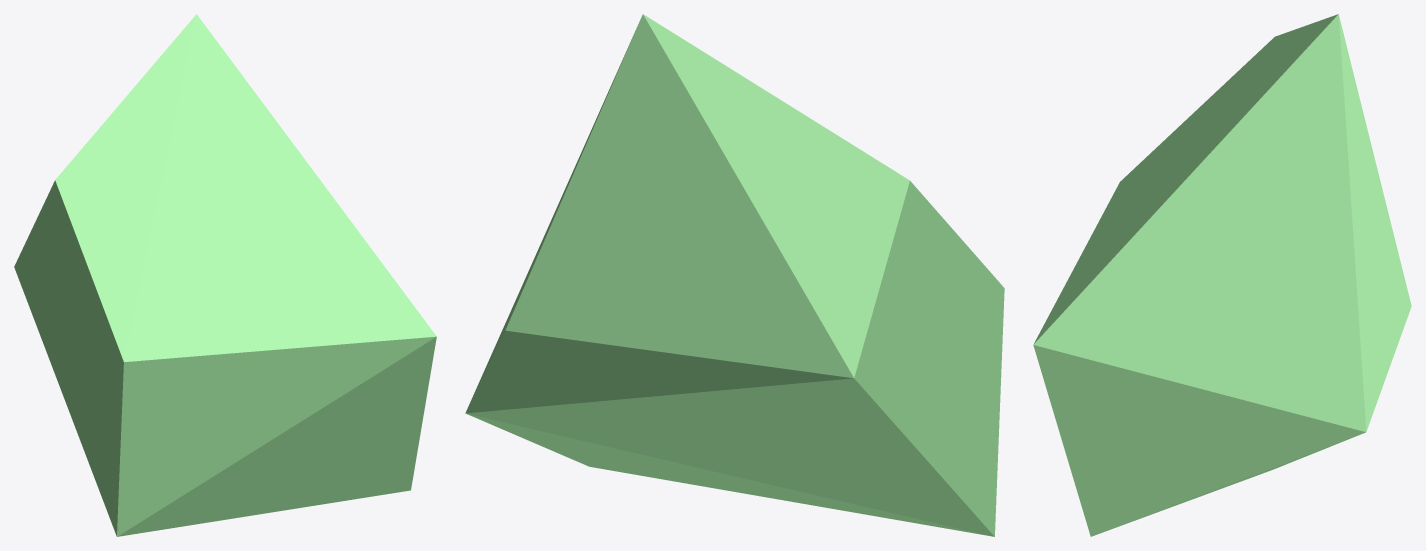
The model's file is linkhou_LR4_R560_link7_respondable_coll_8.dae.
3 views of the same model, side by side, from view 1: azimuth 30°, elevation 25°; view 2: azimuth 150°, elevation 25°; view 3: azimuth 270°, elevation 25° (orthographic). The views are drawn at different scales.
Parts seen in each view (by area): view 1: Node_00000209DB3AB0A0; view 2: Node_00000209DB3AB0A0; view 3: Node_00000209DB3AB0A0.
Boxes of the visible parts, x1,y1,x2,y2 form: Node_00000209DB3AB0A0: [14, 14, 436, 536]; Node_00000209DB3AB0A0: [465, 14, 1004, 536]; Node_00000209DB3AB0A0: [1033, 14, 1411, 536].
Bounding box in the file's own units: 0.00849 × 0.0117 × 0.0086.
